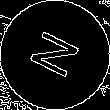N_SE: (23, 26, 87, 84)
